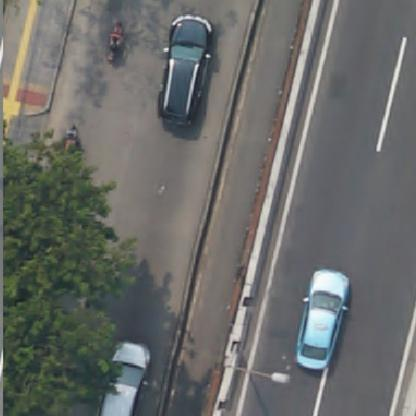Car: (159, 15, 217, 134), (295, 268, 352, 374), (100, 342, 150, 416)
Motorcycle: (104, 19, 127, 66), (59, 122, 79, 154)
